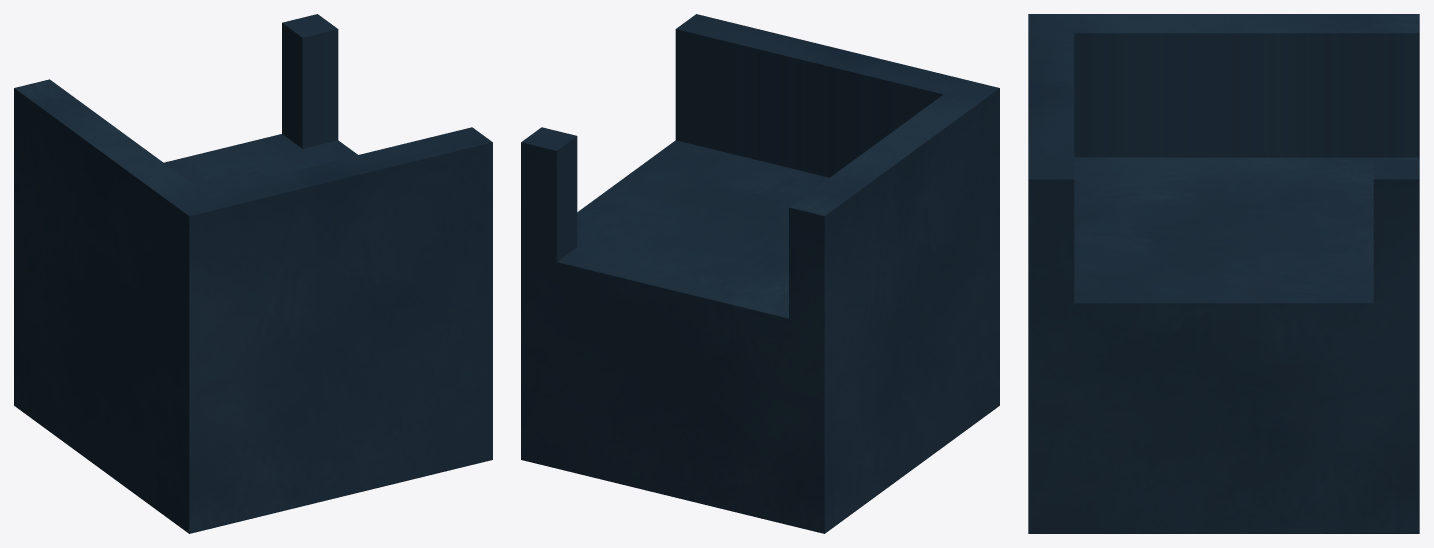
Rendered from Wall Variant B(L).fbx.
3 renders of one model, left to right at view 1: azimuth 30°, elevation 25°; view 2: azimuth 150°, elevation 25°; view 3: azimuth 270°, elevation 25°, orthographic. The views are drawn at different scales.
Visible parts, largest first — view 1: Plane017; view 2: Plane017; view 3: Plane017.
Part boxes in pixels (x1=…): Plane017: x1=14, y1=14, x2=492, y2=533; Plane017: x1=521, y1=14, x2=999, y2=533; Plane017: x1=1028, y1=14, x2=1419, y2=533.
Size of the model in its own units: 39.37 by 39.37 by 39.37.
1 material, 1 textured.
